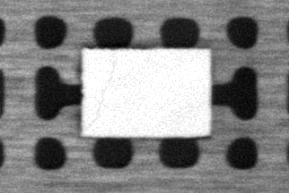DIE_CRACK: (85, 55, 115, 132)
